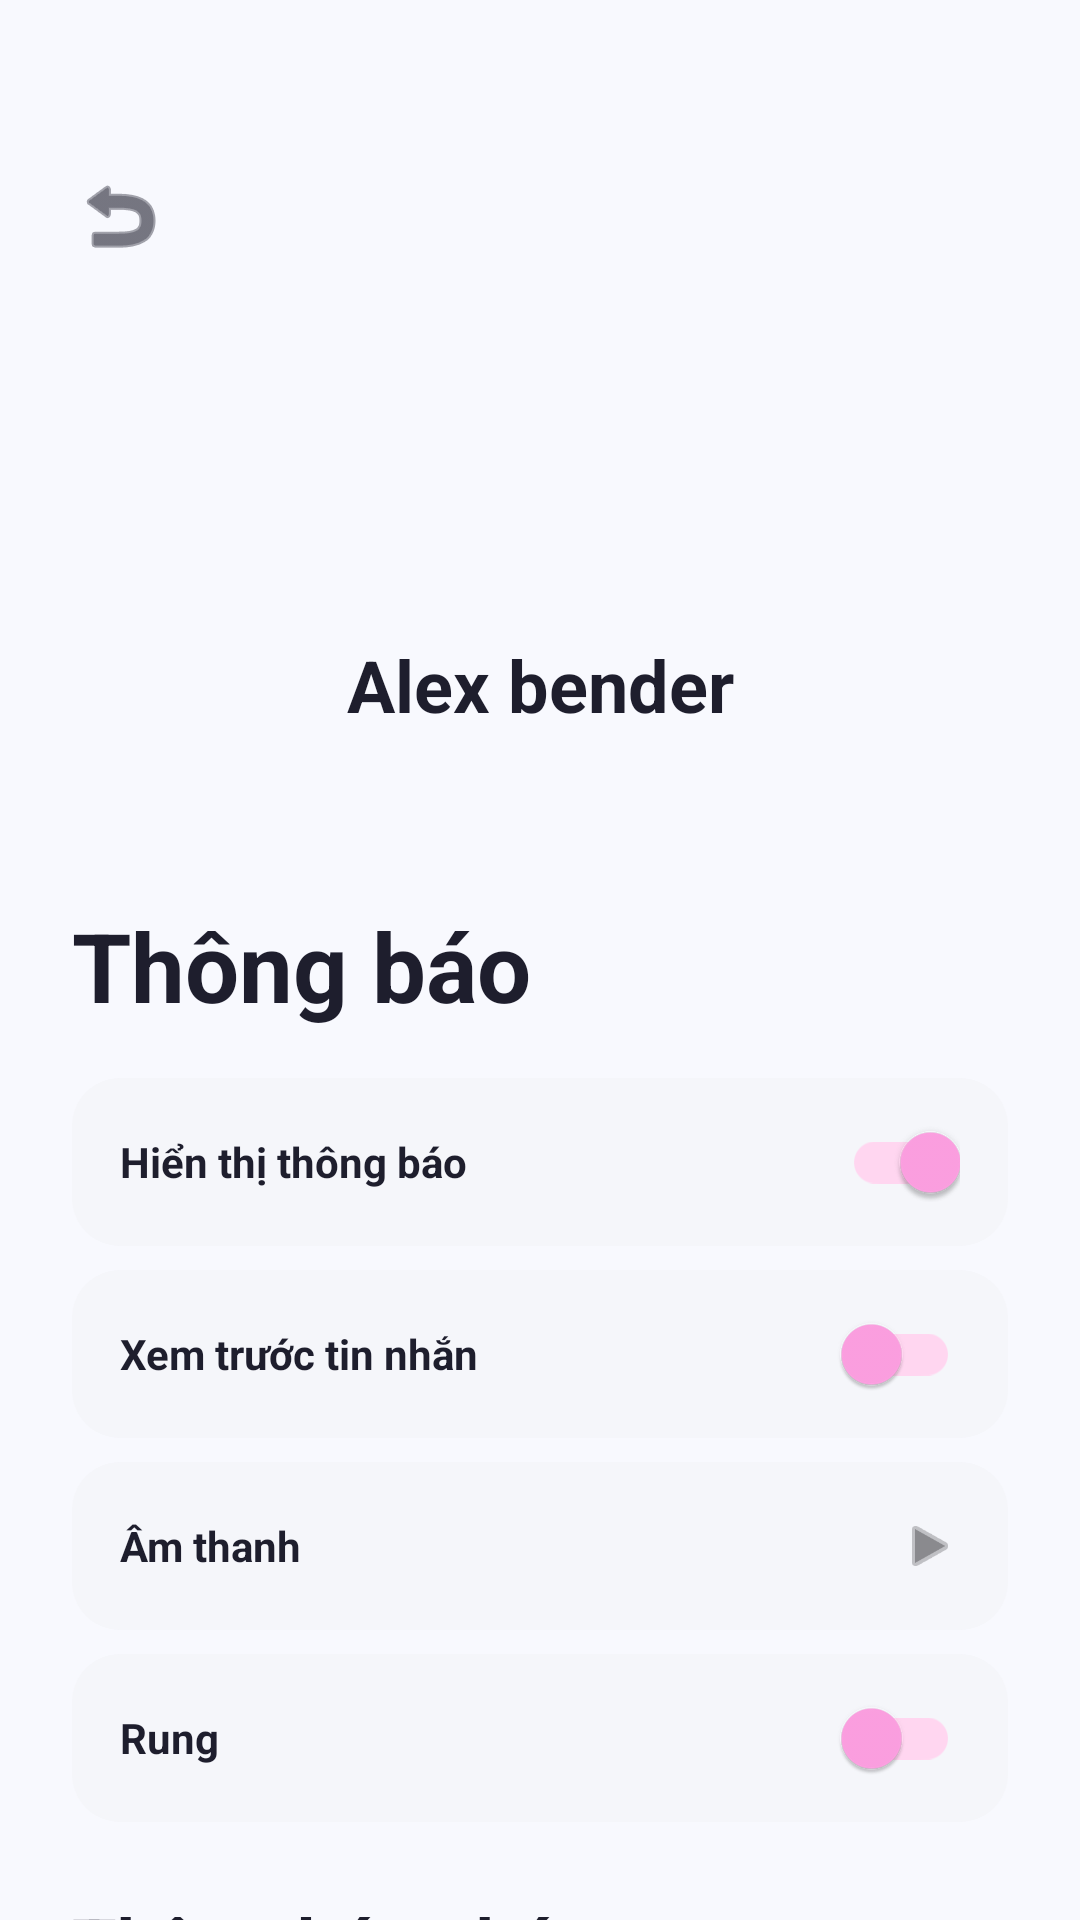

Named icons in this screenshot (1080 × 1920) and their bounding boxes, [left=x1, top=y1, right=x2, bottom=y2]:
Quay lại: [left=87, top=185, right=156, bottom=248]
